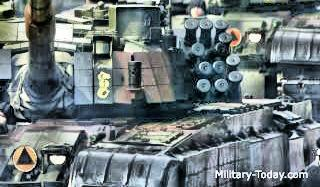tanks: (1, 1, 320, 187), (118, 1, 320, 122), (87, 1, 100, 4)
